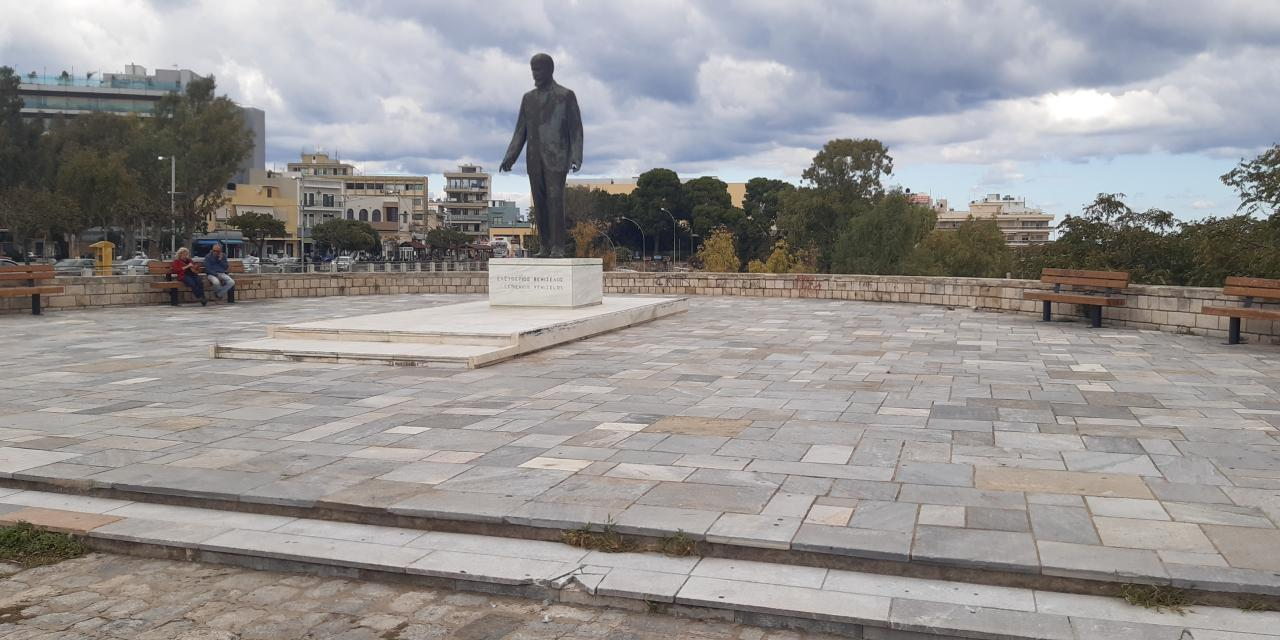Venizelos: (503, 53, 584, 258)
